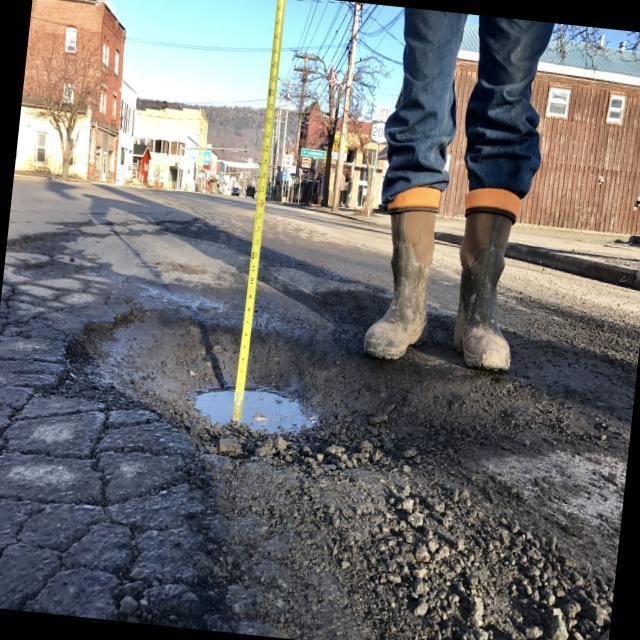Pothole: (45, 278, 409, 474), (0, 374, 185, 604)
